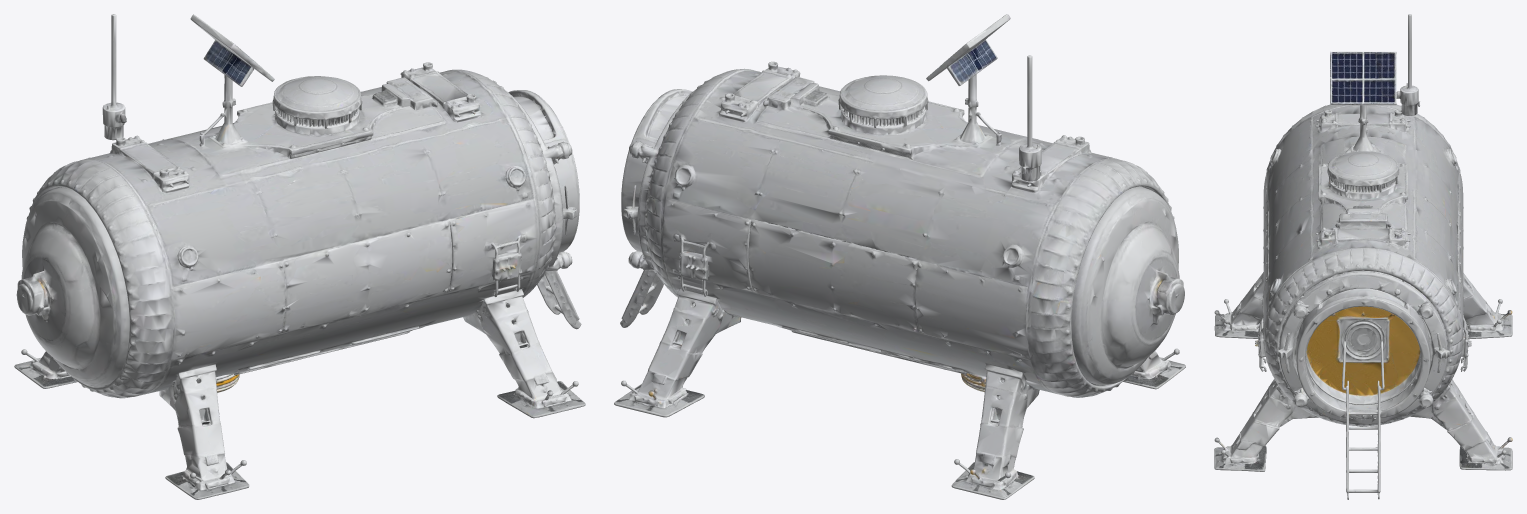
Rendered from lunar_hab.glb.
3 views of the same model, side by side, from view 1: azimuth 30°, elevation 25°; view 2: azimuth 150°, elevation 25°; view 3: azimuth 270°, elevation 25° (orthographic). The views are drawn at different scales.
Parts seen in each view (by area): view 1: lunar_hab; view 2: lunar_hab; view 3: lunar_hab.
Boxes of the visible parts, x1,y1,x2,y2 form: lunar_hab: (14,14,585,499); lunar_hab: (614,14,1185,499); lunar_hab: (1214,14,1512,499).
Bounding box in the file's own units: 9 × 6.11 × 5.22.
1 material, 1 textured.
